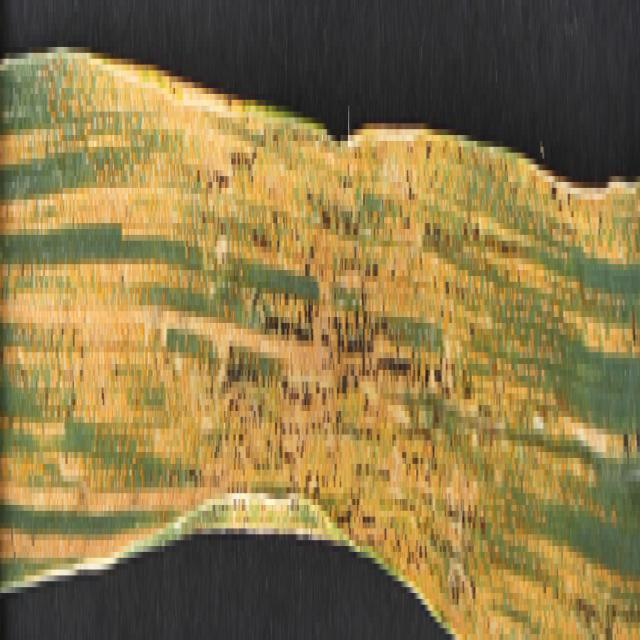leaf rust: (0, 58, 640, 616)
